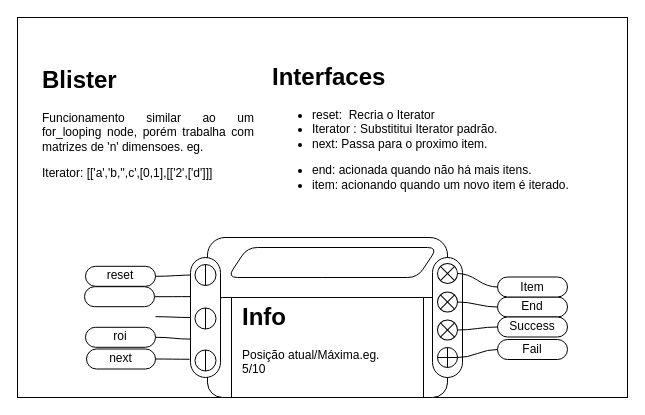
This 645x415 diagram has some shape labels left out. Here are the shapes that lost their labels. From the top down, the centre of each, then its label:
point 332,262: | [ ] Auto-Run |
point 119,296: slot_config
